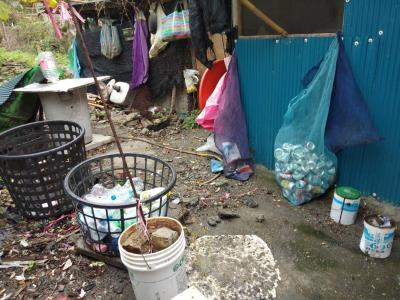bottle: (358, 214, 397, 258), (328, 186, 362, 226), (37, 51, 60, 81)
bucket: (117, 215, 191, 299), (39, 87, 93, 145)
plastic_bag: (274, 102, 336, 205), (212, 89, 250, 176), (1, 73, 37, 128), (156, 10, 192, 37), (100, 25, 123, 57)
